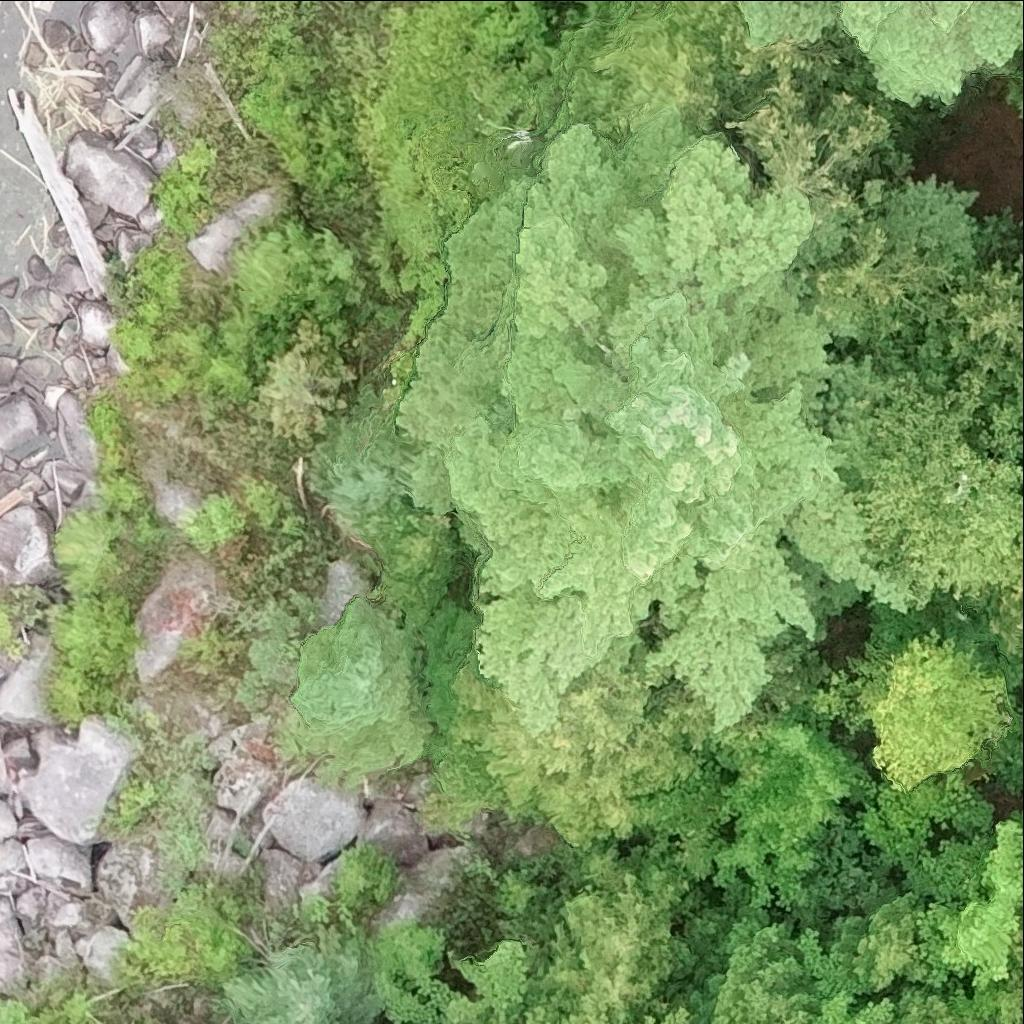crown: (400, 101, 921, 728), (453, 601, 732, 846), (626, 721, 874, 905), (863, 370, 1023, 600), (814, 632, 1010, 794), (525, 850, 690, 1023), (743, 0, 1023, 101), (288, 597, 426, 777), (723, 89, 890, 208), (914, 809, 1023, 991), (814, 213, 965, 336), (310, 384, 412, 507), (231, 944, 386, 1023), (448, 939, 589, 1023), (238, 219, 360, 313), (255, 317, 347, 438), (958, 908, 1023, 1023), (953, 253, 1023, 359), (48, 594, 138, 675), (54, 512, 124, 606), (712, 981, 813, 1023), (995, 529, 1023, 662), (888, 990, 962, 1023), (632, 1006, 690, 1023)
